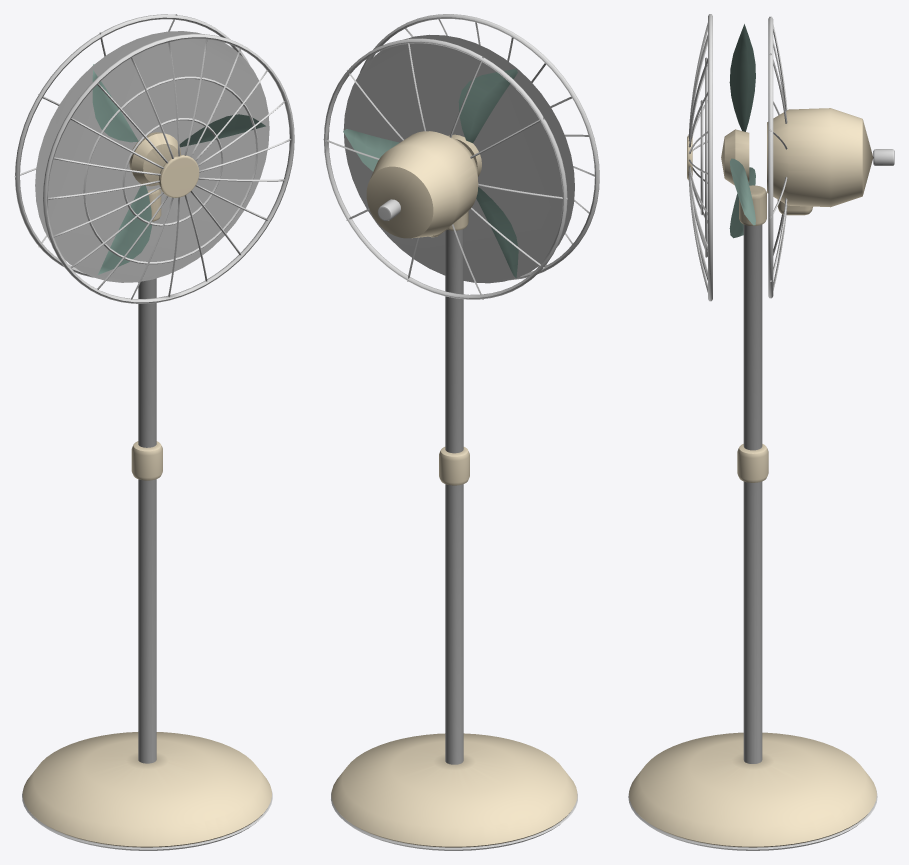
Rendered from fan.glb.
3 views of the same model, side by side, from view 1: azimuth 30°, elevation 25°; view 2: azimuth 150°, elevation 25°; view 3: azimuth 270°, elevation 25° (orthographic).
Visible parts, largest first — view 1: Body, BladeBlur_noshadow, Head, Blades; view 2: Body, BladeBlur_noshadow, Head, Blades; view 3: Body, Head, Blades.
Boxes of the visible parts, bbox=[...] form: Body: bbox=[22, 188, 272, 850]; BladeBlur_noshadow: bbox=[35, 31, 269, 282]; Head: bbox=[14, 14, 294, 303]; Blades: bbox=[92, 64, 265, 274]; Body: bbox=[331, 211, 577, 850]; BladeBlur_noshadow: bbox=[343, 34, 574, 283]; Head: bbox=[323, 14, 599, 299]; Blades: bbox=[343, 69, 518, 278]; Body: bbox=[628, 185, 877, 850]; Head: bbox=[687, 14, 894, 301]; Blades: bbox=[721, 24, 755, 238].
Bounding box in the file's own units: 0.4061 × 1.2 × 0.376.
